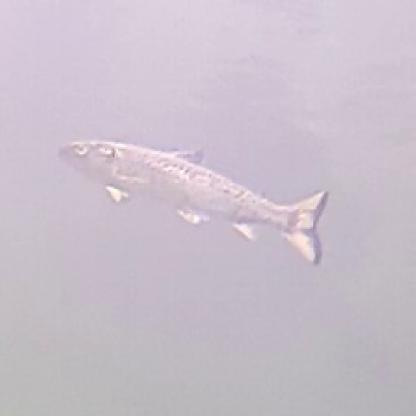salmon: (50, 130, 333, 267)
